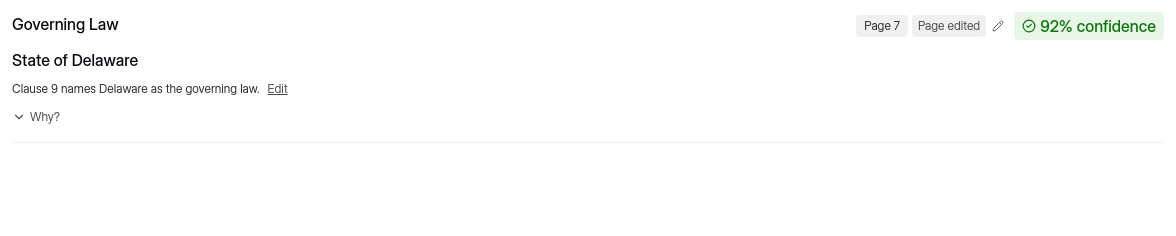
WhySection (spec 07 v1.1 §C) › shows the page the MODEL found the sentence on, not the user-edited page (L11)
Click the button "Why?": x=36, y=117 x1=12 y1=108 x2=60 y2=126
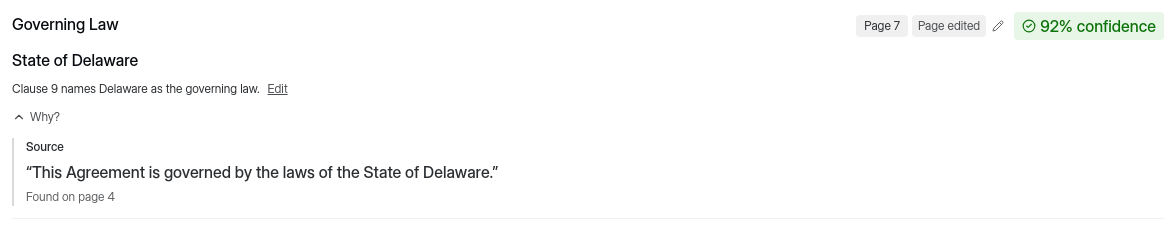
Expected: the button "Page 7" is shown, x1=856 y1=15 x2=908 y2=37
Expected: the text "Found on page 4" is shown, x1=26 y1=189 x2=115 y2=204
